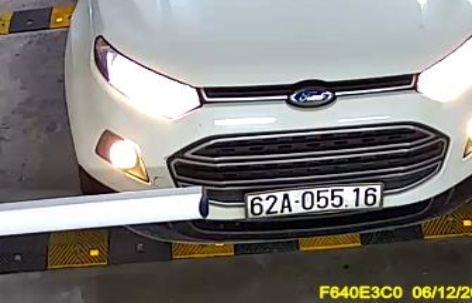plate: (242, 179, 385, 221)
